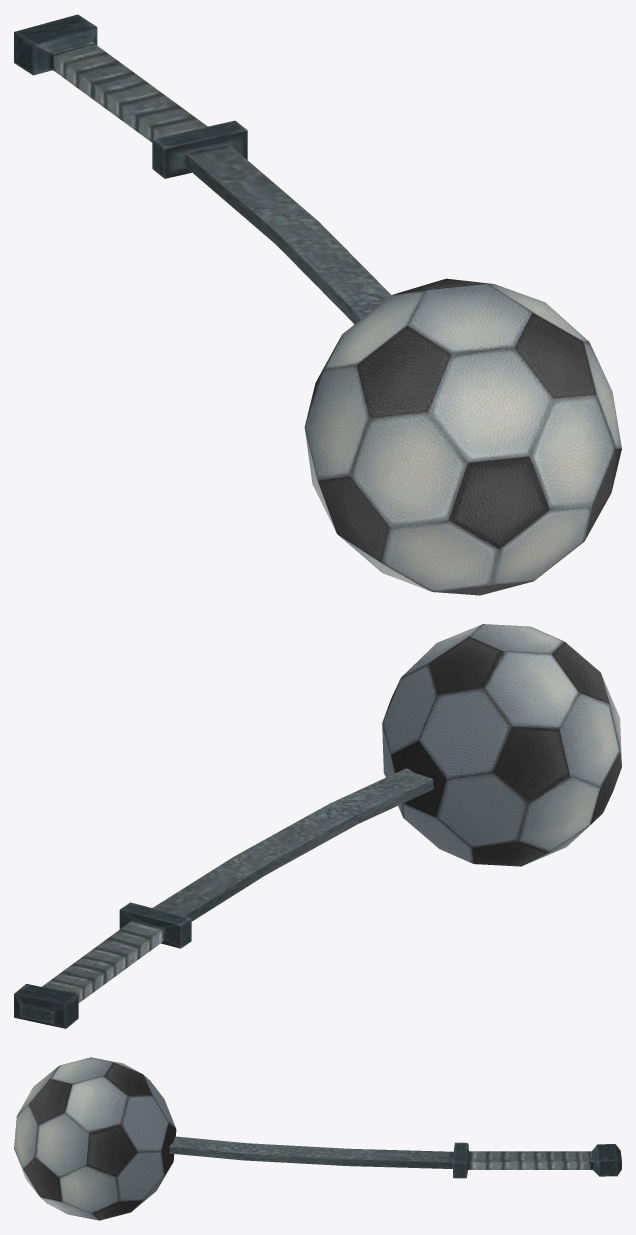
3 views of the same model, one above another, from view 1: azimuth 30°, elevation 25°; view 2: azimuth 150°, elevation 25°; view 3: azimuth 270°, elevation 25° (orthographic). The views are drawn at different scales.
Parts seen in each view (by area): view 1: i002022; view 2: i002022; view 3: i002022.
Part boxes in pixels (x1,y1,x2,y2): i002022: (14,14,621,595); i002022: (14,624,621,1028); i002022: (14,1057,621,1220).
Size of the model in its own units: 19.64 by 19.25 by 73.84.
Materials: 1 (1 with a texture image).
